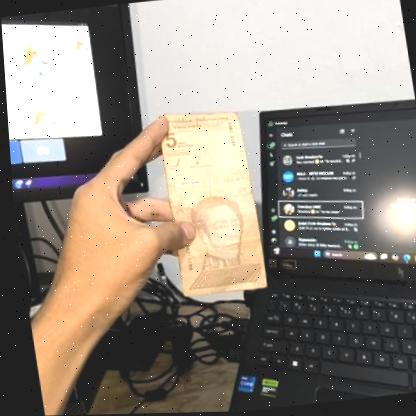five-front-vef: (153, 108, 265, 299)
